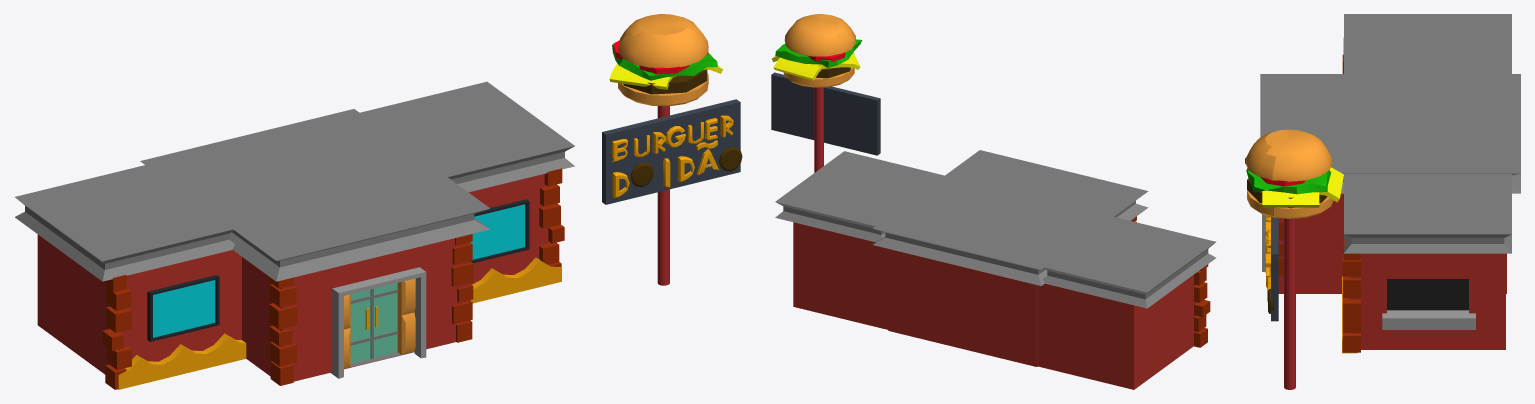
File: BurguerDoidaoLOD0.fbx
3 views of the same model, side by side, from view 1: azimuth 30°, elevation 25°; view 2: azimuth 150°, elevation 25°; view 3: azimuth 270°, elevation 25° (orthographic). The views are drawn at different scales.
Parts seen in each view (by area): view 1: BurguerLOD0, BurgaoLOD0, LetreiroLOD0; view 2: BurguerLOD0, BurgaoLOD0; view 3: BurguerLOD0, BurgaoLOD0, LetreiroLOD0.
Part boxes in pixels (<box>): BurguerLOD0: <box>15,81,740,389</box>; BurgaoLOD0: <box>609,14,722,106</box>; LetreiroLOD0: <box>612,115,742,198</box>; BurguerLOD0: <box>771,72,1216,389</box>; BurgaoLOD0: <box>772,14,862,87</box>; BurguerLOD0: <box>1260,14,1520,389</box>; BurgaoLOD0: <box>1245,129,1343,218</box>; LetreiroLOD0: <box>1265,215,1273,313</box>.
Bounding box in the file's own units: 1906 × 792 × 793.
Materials: 1 (1 with a texture image).
